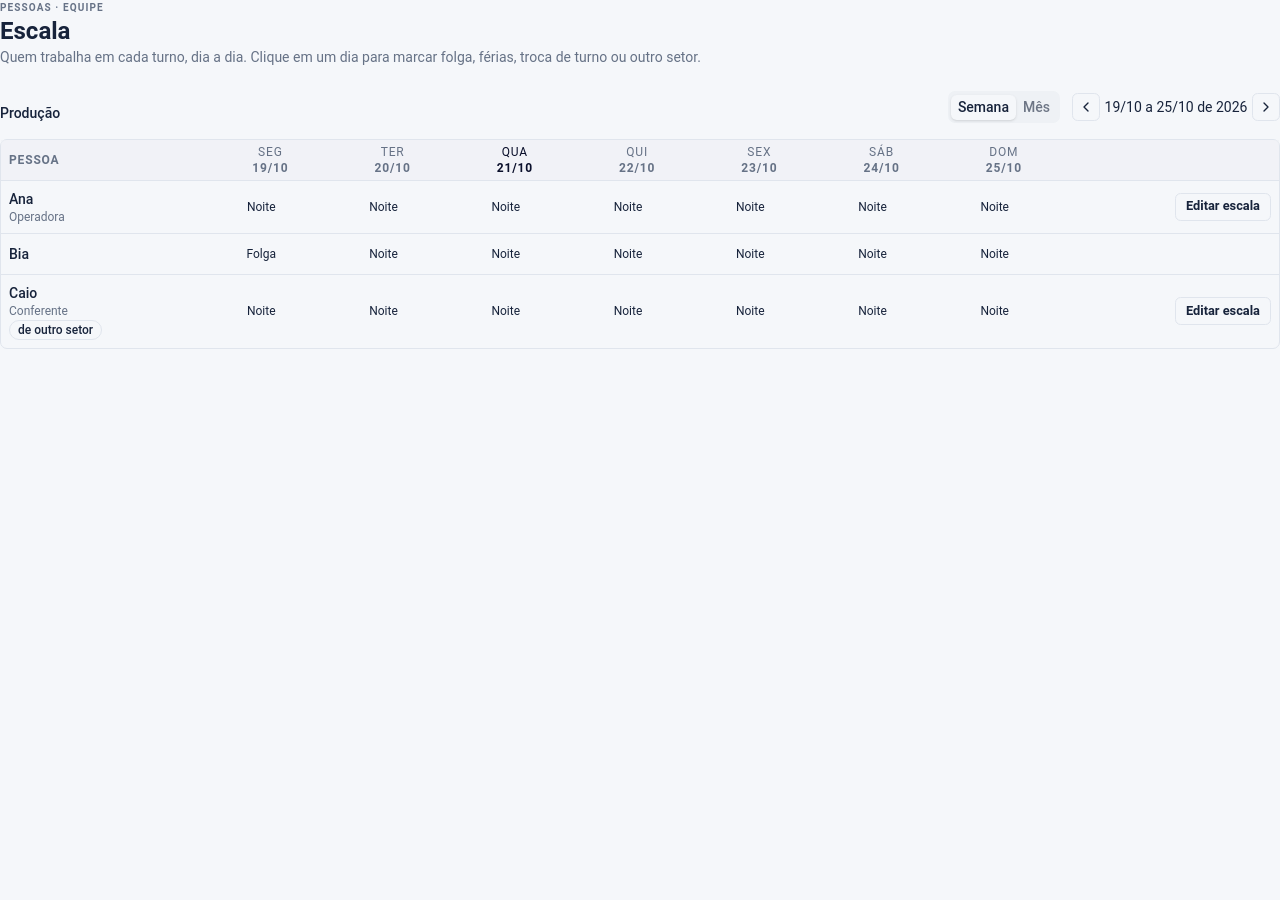
Test case: /escala: editar escala › Editar escala só aparece em linha com canEdit e abre o editor da pessoa
Click the button "Editar escala" in the row of "Operadora" at point(1223, 206), box [1175, 192, 1271, 220]
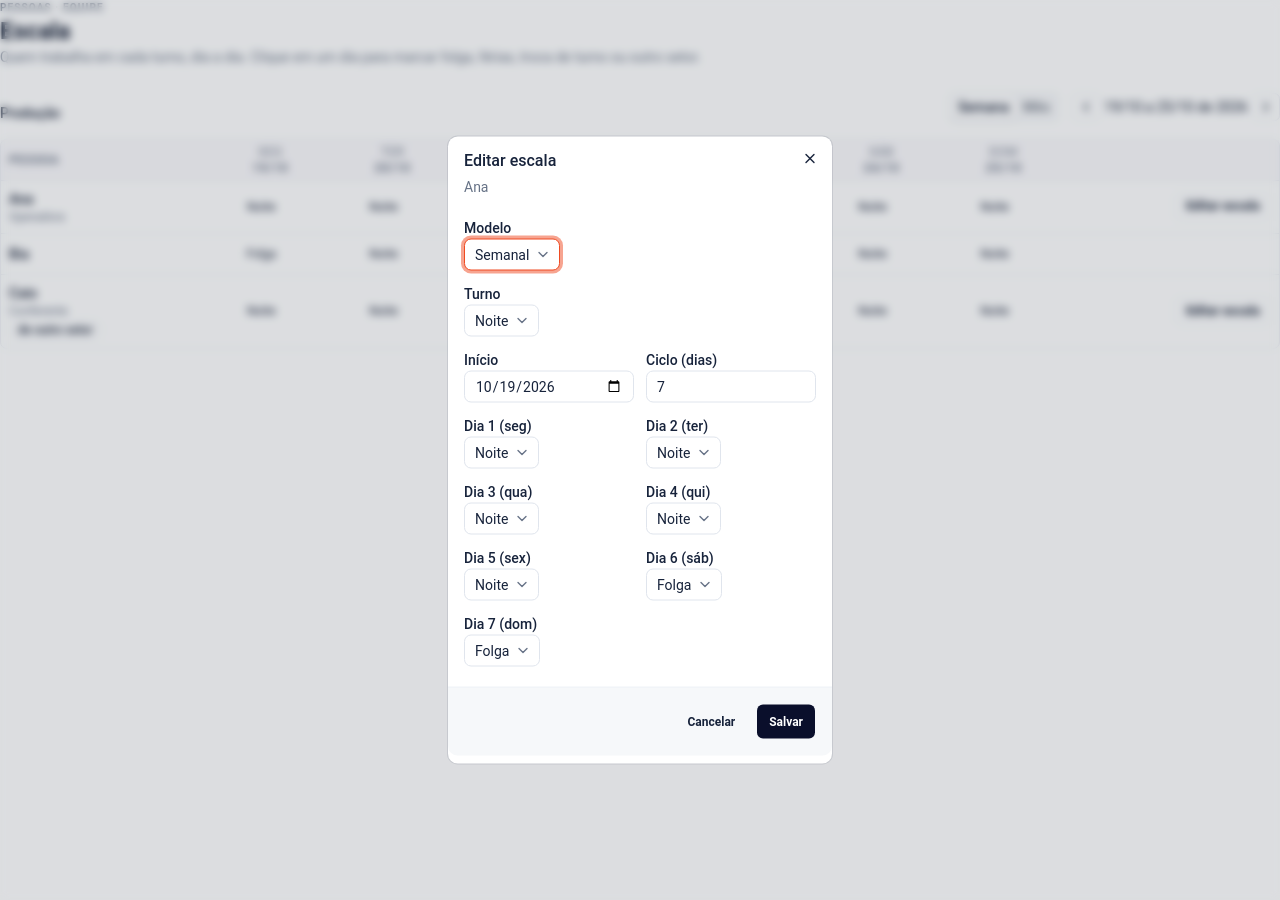
Now the heading "Editar escala" is shown, box [464, 150, 556, 170]
Now the text "Ana" is shown, box [464, 178, 488, 194]
Now the dropdown named "Modelo" reads "Semanal", box [464, 238, 560, 270]
